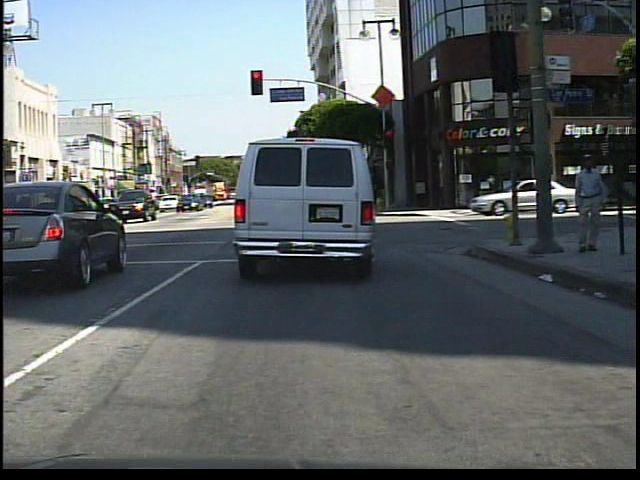person: (571, 150, 615, 257)
